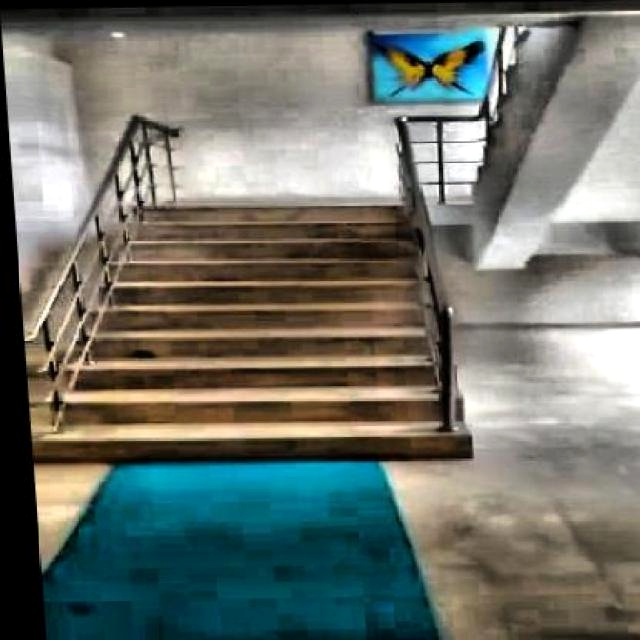stair: (14, 203, 471, 460)
